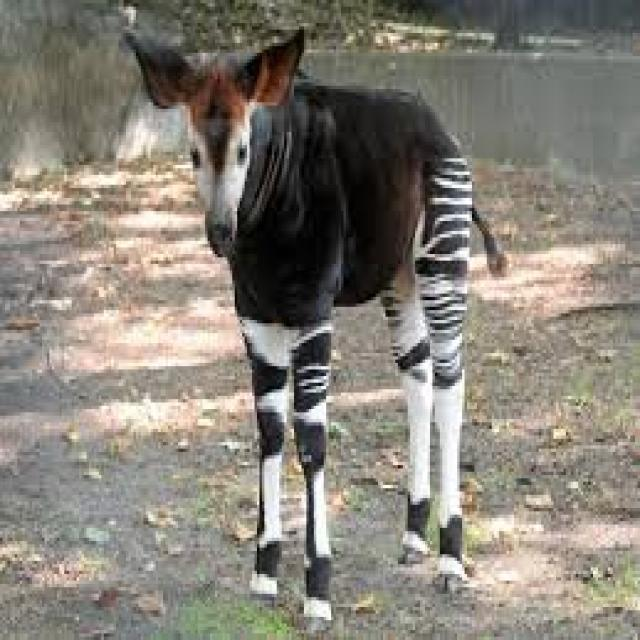Okapi: (124, 22, 520, 626)
